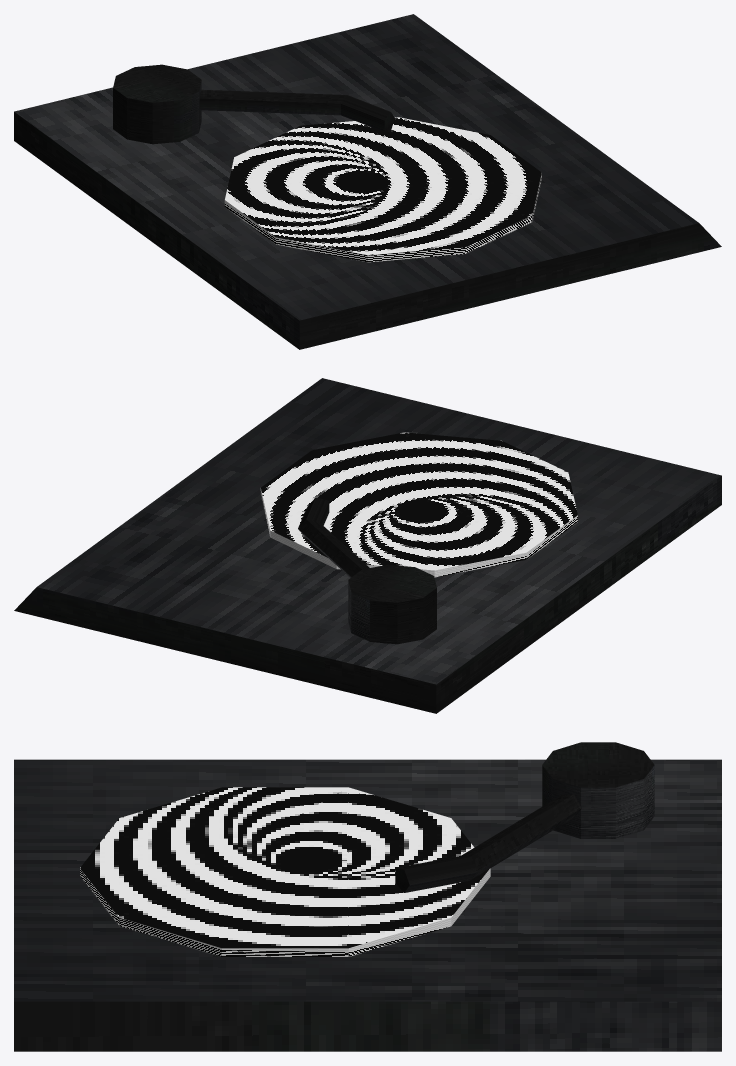
The model's file is turntable.glb.
The picture shows the model from 3 angles, top to bottom: view 1: azimuth 30°, elevation 25°; view 2: azimuth 150°, elevation 25°; view 3: azimuth 270°, elevation 25°; orthographic projection. The views are drawn at different scales.
Parts seen in each view (by area): view 1: Cube.004; view 2: Cube.004; view 3: Cube.004.
Part boxes in pixels (x1,y1,x2,y2): Cube.004: (14, 14, 721, 349); Cube.004: (14, 378, 721, 713); Cube.004: (14, 742, 721, 1051).
Bounding box in the file's own units: 2.11 × 0.3386 × 2.47.
Materials: 3 (3 with a texture image).
